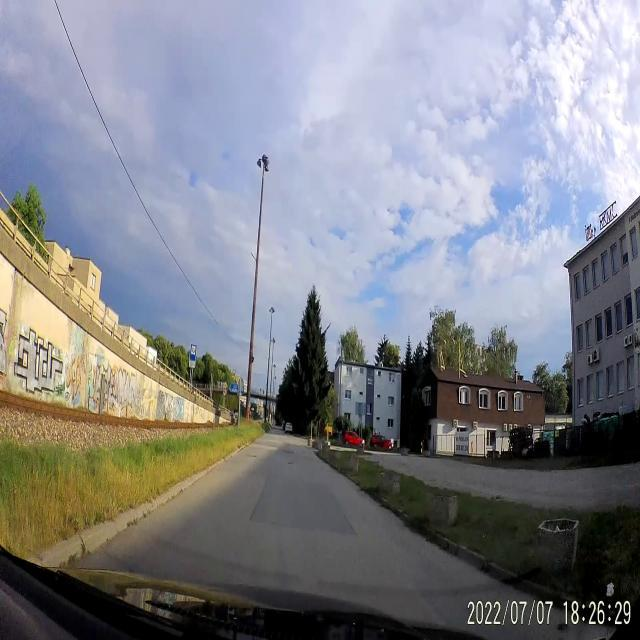Pothole: (246, 453, 257, 459), (287, 459, 294, 466)
